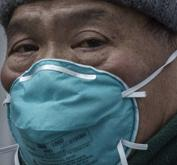with_mask: (2, 2, 177, 165)
